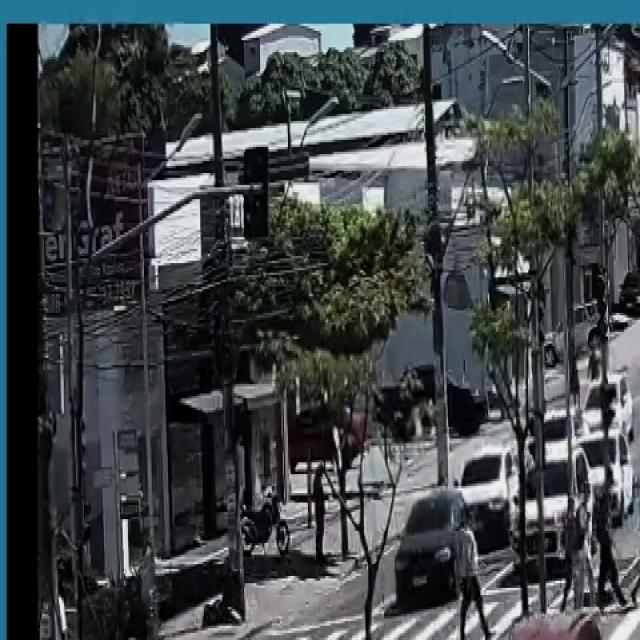car: (508, 440, 597, 571), (393, 484, 474, 604), (481, 614, 624, 640)
people: (591, 468, 629, 616), (455, 507, 493, 640), (571, 476, 598, 615), (310, 454, 329, 560), (626, 474, 640, 604)
